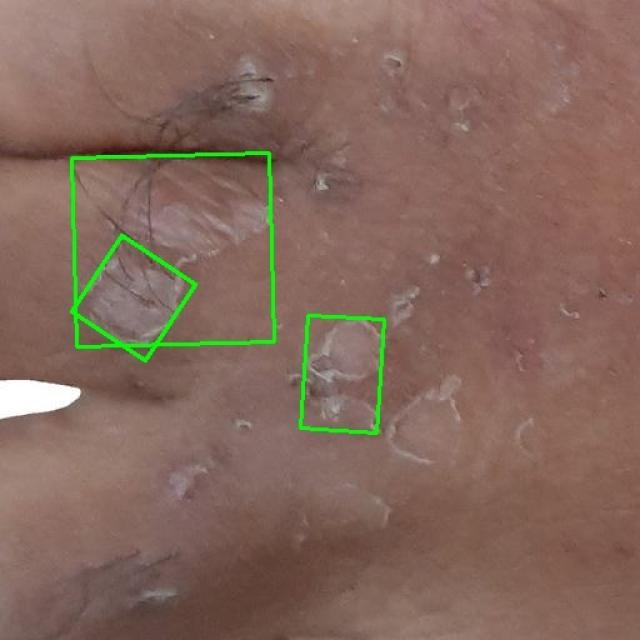Eczema: (72, 153, 275, 347), (72, 236, 196, 361), (301, 315, 384, 433)
